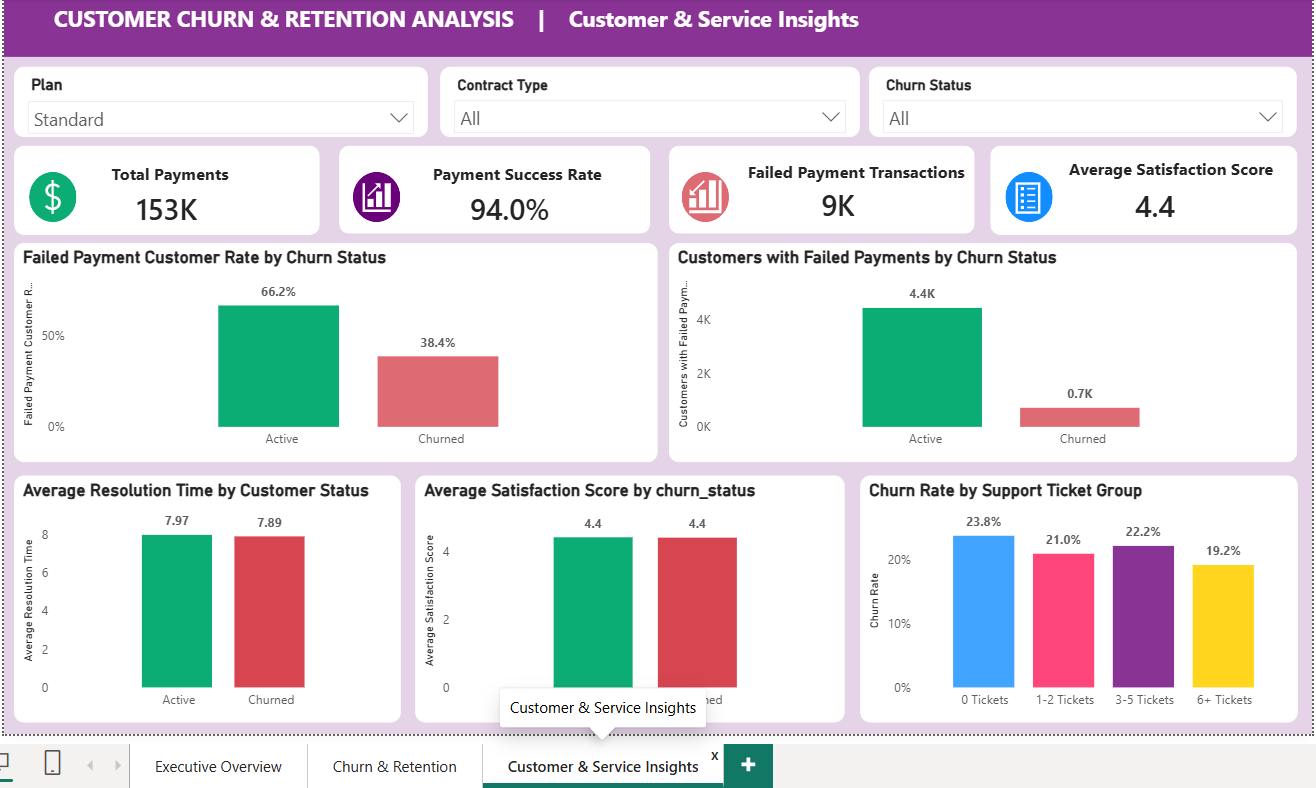

This screenshot's page, from the dashboard's own definition file:
{"tool":"powerbi","page":{"name":" Customer & Service Insights","canvas":[1280,720],"ordinal":2},"visuals":[{"type":"shape","box":[964.7,144.1,300.5,87.8],"z":0},{"type":"shape","box":[650.4,144.1,299.1,86.4],"z":1000},{"type":"shape","box":[328,144.1,304.6,86.4],"z":2000},{"type":"shape","box":[9.6,144.1,299.1,87.8],"z":3000},{"type":"textbox","box":[0,0,1280.3,57.6],"z":4000},{"type":"cardVisual","fields":{"Data":["payments.Total Payments"]},"box":[100.2,168.8,153.7,71.4],"z":5000},{"type":"clusteredColumnChart","title":"Failed Payment Customer Rate by Churn Status","fields":{"Category":["subscriptions.churn_status"],"Y":["payments.Failed Payment Customer Rate"]},"box":[9.6,240.1,629.8,214.1],"z":6000},{"type":"clusteredColumnChart","title":"Customers with Failed Payments by Churn Status","fields":{"Category":["subscriptions.churn_status"],"Y":["payments.Customers with Failed Payments"]},"box":[650.4,240.1,614.8,214.1],"z":7000},{"type":"clusteredColumnChart","title":"Average Resolution Time by Customer Status","fields":{"Category":["subscriptions.churn_status"],"Y":["support_tickets.Average Resolution Time"]},"box":[9.6,466.6,378.7,241.5],"z":8000},{"type":"clusteredColumnChart","title":"Churn Rate by Support Ticket Group","fields":{"Y":["subscriptions.Churn Rate"],"Category":["customers.Ticket Group"]},"box":[837.1,466.6,428.1,241.5],"z":9000},{"type":"clusteredColumnChart","fields":{"Category":["subscriptions.churn_status"],"Y":["support_tickets.Average Satisfaction Score"]},"box":[402.1,466.6,419.9,241.5],"z":10000},{"type":"slicer","fields":{"Values":["subscriptions.plan"]},"box":[9.6,67.2,404.8,68.6],"z":11000},{"type":"slicer","fields":{"Values":["subscriptions.churn_status"]},"box":[846.7,67.2,418.5,68.6],"z":12000},{"type":"slicer","fields":{"Values":["subscriptions.contract_type"]},"box":[426.8,67.2,410.3,68.6],"z":13000},{"type":"shape","box":[24.7,170.2,46.7,49.4],"z":14000},{"type":"shape","box":[341.7,170.2,46.7,49.4],"z":15000},{"type":"shape","box":[979.8,170.2,46.7,49.4],"z":16000},{"type":"shape","box":[662.8,170.2,46.7,49.4],"z":17000},{"type":"textbox","box":[100.2,155.1,188,43.9],"z":18000},{"type":"textbox","box":[414.4,155.1,214.1,54.9],"z":19000},{"type":"textbox","box":[723.2,153.7,226.4,45.3],"z":20000},{"type":"textbox","box":[1037.4,150.9,227.8,50.8],"z":21000},{"type":"cardVisual","fields":{"Data":["payments.Failed Payments"]},"box":[769.8,164.7,153.7,71.4],"z":22000},{"type":"cardVisual","fields":{"Data":["payments.Payment Success Rate"]},"box":[426.8,168.8,153.7,71.4],"z":23000},{"type":"cardVisual","fields":{"Data":["support_tickets.Average Satisfaction Score"]},"box":[1077.2,166,109.8,71.4],"z":24000},{"type":"image","box":[20.6,175.6,53.5,37],"z":24001},{"type":"image","box":[971.5,177,61.7,37],"z":24002},{"type":"image","box":[662.8,172.9,46.7,43.9],"z":24003},{"type":"image","box":[341.7,175.6,46.7,38.4],"z":24004}]}

Visuals, with their boxes on the page's 1280x720 design canvas (x1, y1, x2, y2). These are canvas units, not pixel positions in the 1316x788 screenshot, which may show the page scaled, cropped or inside an application window:
shape: (x1=965, y1=144, x2=1265, y2=232)
shape: (x1=650, y1=144, x2=950, y2=230)
shape: (x1=328, y1=144, x2=633, y2=230)
shape: (x1=10, y1=144, x2=309, y2=232)
textbox: (x1=0, y1=0, x2=1280, y2=58)
cardVisual - payments.Total Payments: (x1=100, y1=169, x2=254, y2=240)
"Failed Payment Customer Rate by Churn Status" clusteredColumnChart: (x1=10, y1=240, x2=639, y2=454)
"Customers with Failed Payments by Churn Status" clusteredColumnChart: (x1=650, y1=240, x2=1265, y2=454)
"Average Resolution Time by Customer Status" clusteredColumnChart: (x1=10, y1=467, x2=388, y2=708)
"Churn Rate by Support Ticket Group" clusteredColumnChart: (x1=837, y1=467, x2=1265, y2=708)
clusteredColumnChart - subscriptions.churn_status x support_tickets.Average Satisfaction Score: (x1=402, y1=467, x2=822, y2=708)
slicer - subscriptions.plan: (x1=10, y1=67, x2=414, y2=136)
slicer - subscriptions.churn_status: (x1=847, y1=67, x2=1265, y2=136)
slicer - subscriptions.contract_type: (x1=427, y1=67, x2=837, y2=136)
shape: (x1=25, y1=170, x2=71, y2=220)
shape: (x1=342, y1=170, x2=388, y2=220)
shape: (x1=980, y1=170, x2=1026, y2=220)
shape: (x1=663, y1=170, x2=710, y2=220)
textbox: (x1=100, y1=155, x2=288, y2=199)
textbox: (x1=414, y1=155, x2=628, y2=210)
textbox: (x1=723, y1=154, x2=950, y2=199)
textbox: (x1=1037, y1=151, x2=1265, y2=202)
cardVisual - payments.Failed Payments: (x1=770, y1=165, x2=924, y2=236)
cardVisual - payments.Payment Success Rate: (x1=427, y1=169, x2=580, y2=240)
cardVisual - support_tickets.Average Satisfaction Score: (x1=1077, y1=166, x2=1187, y2=237)
image: (x1=21, y1=176, x2=74, y2=213)
image: (x1=972, y1=177, x2=1033, y2=214)
image: (x1=663, y1=173, x2=710, y2=217)
image: (x1=342, y1=176, x2=388, y2=214)
